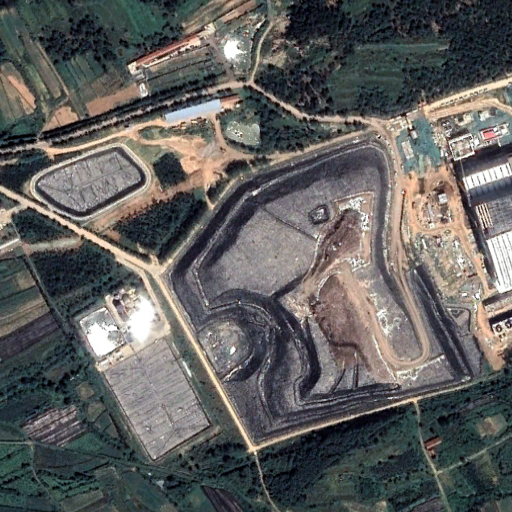lf: (157, 129, 491, 453)
